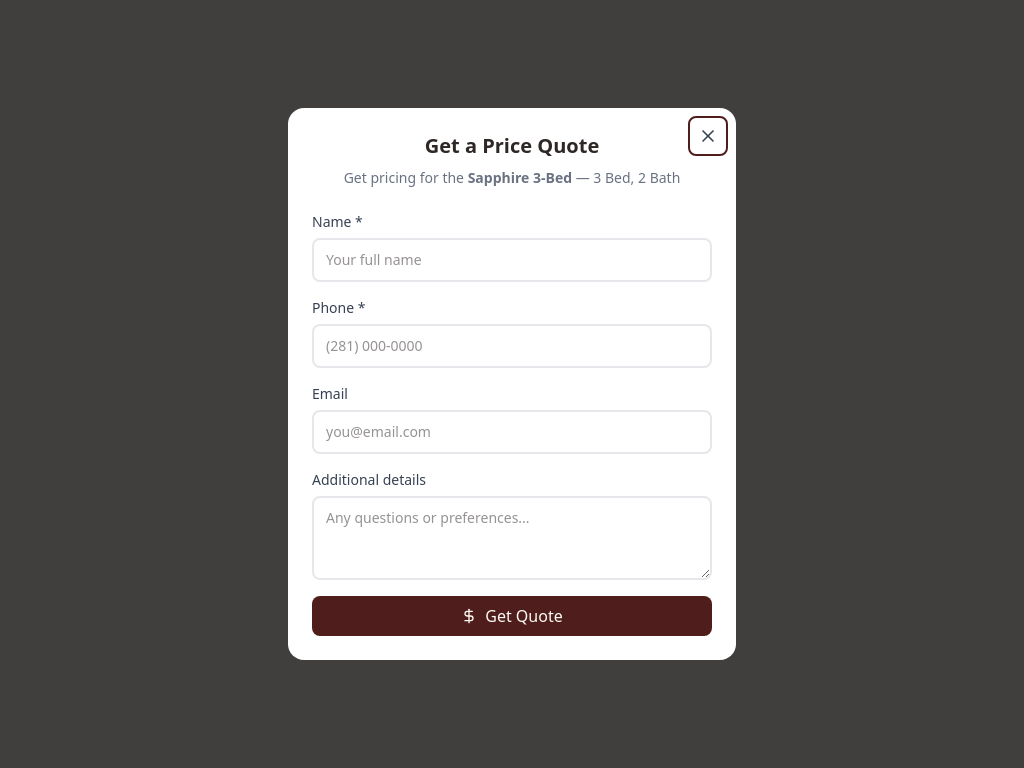
it: LeadCaptureForm › shows the success screen only when the backend returns {success:true}
Step 1. Type "Alice Buyer" into the field with placeholder "Your full name" → x=512, y=260, box [312, 238, 712, 282]
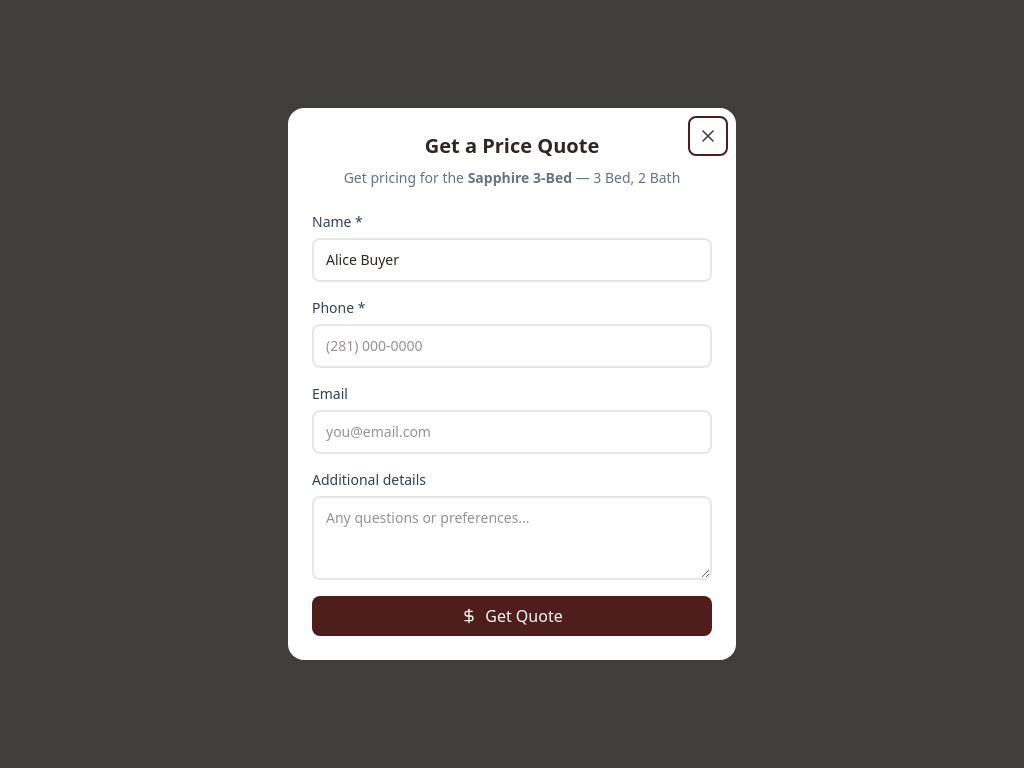
Step 2. Type "2813243020" into the field with placeholder "(281) 000-0000" → x=512, y=346, box [312, 324, 712, 368]
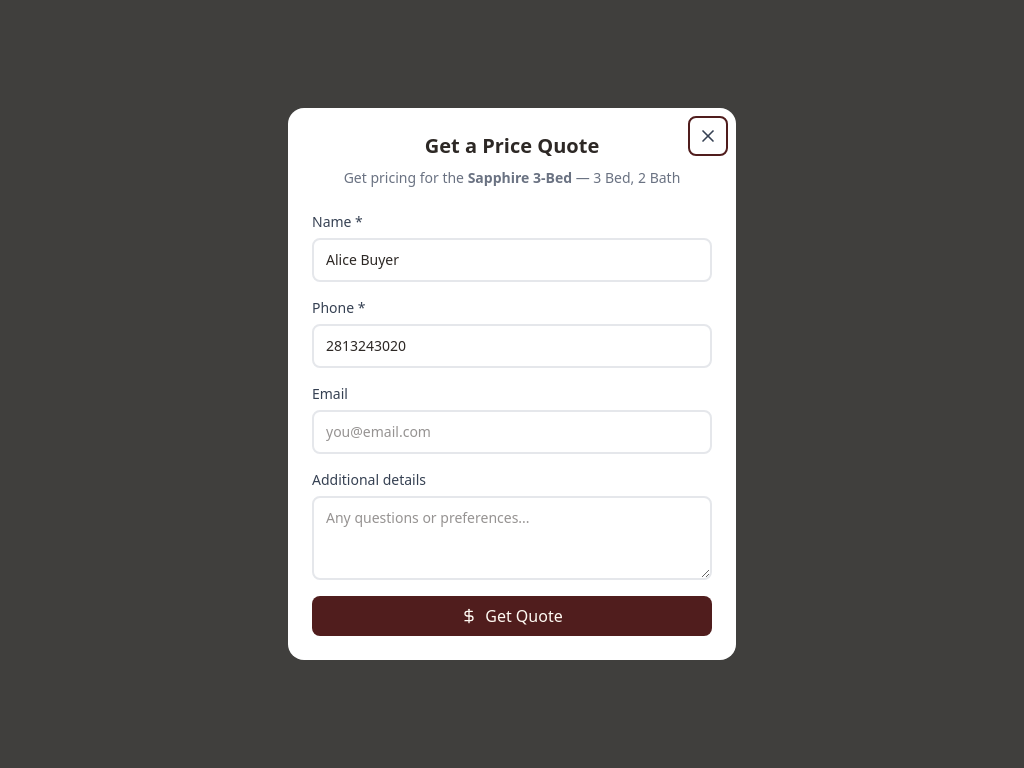
Step 3. Click the button "Get Quote" → x=512, y=616, box [312, 596, 712, 636]
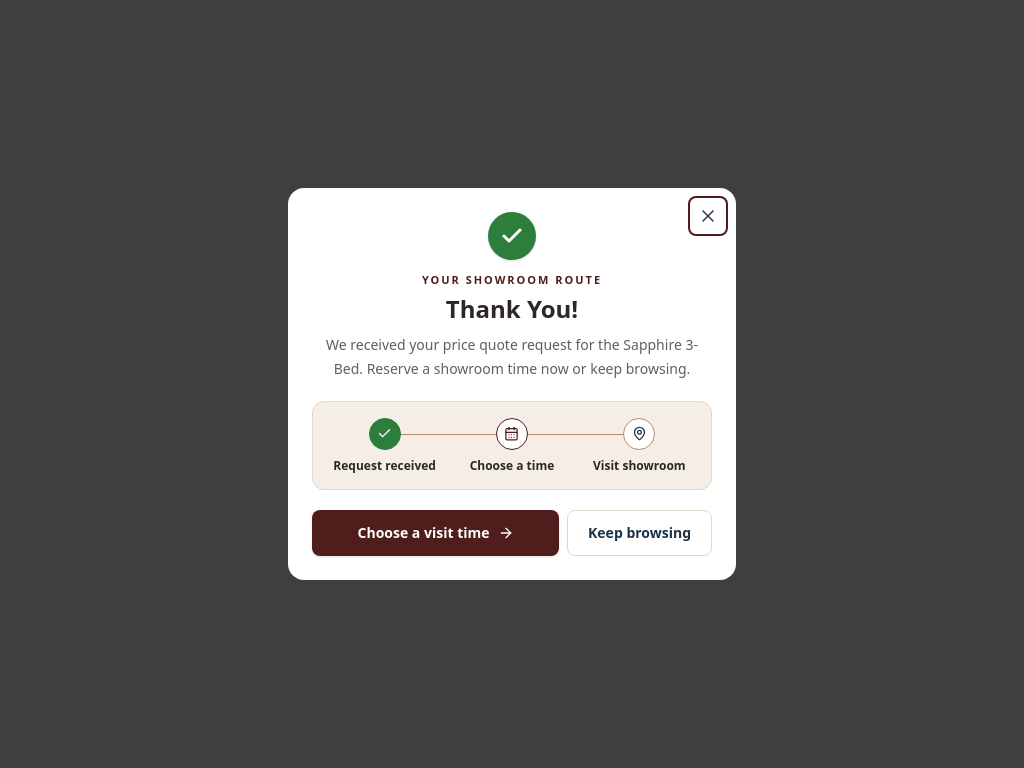
Check: the heading "Thank You!" is shown, box [446, 292, 578, 325]
